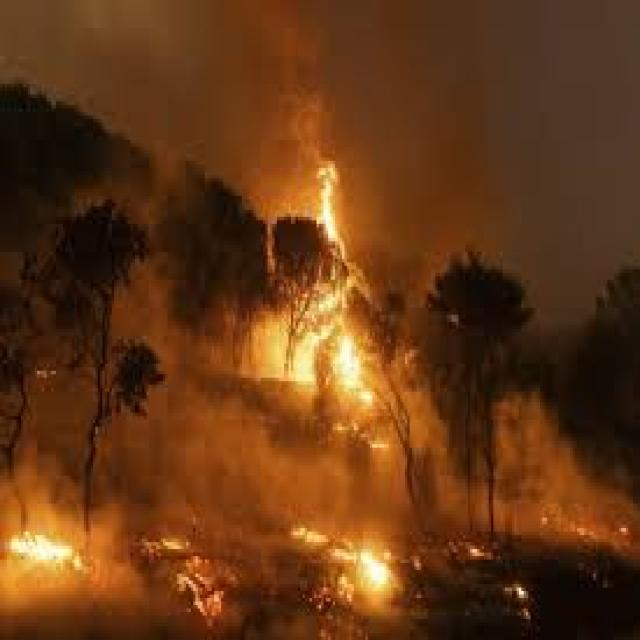fire: (256, 100, 394, 406), (286, 497, 418, 619), (0, 500, 114, 581)
